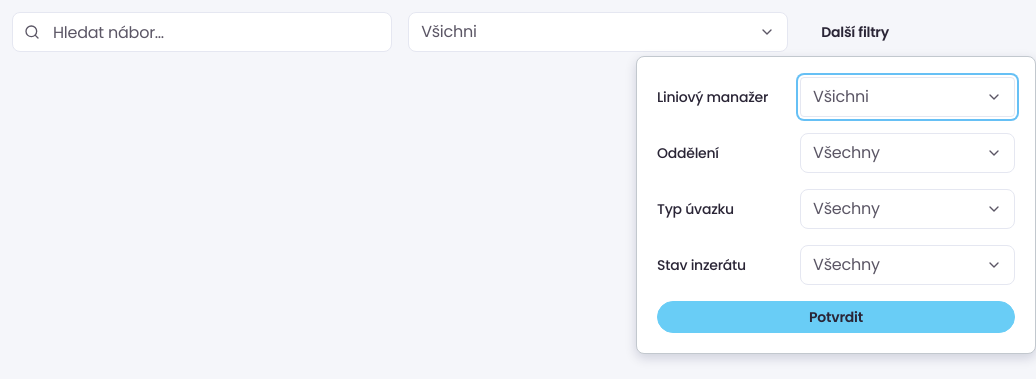
Test: JobsFilterV2 › closes the more-filters dropdown when Potvrdit is clicked
The width and height of the screenshot is (1036, 379).
Click the button "Potvrdit". click: (836, 317)
box: [657,301,1015,333]
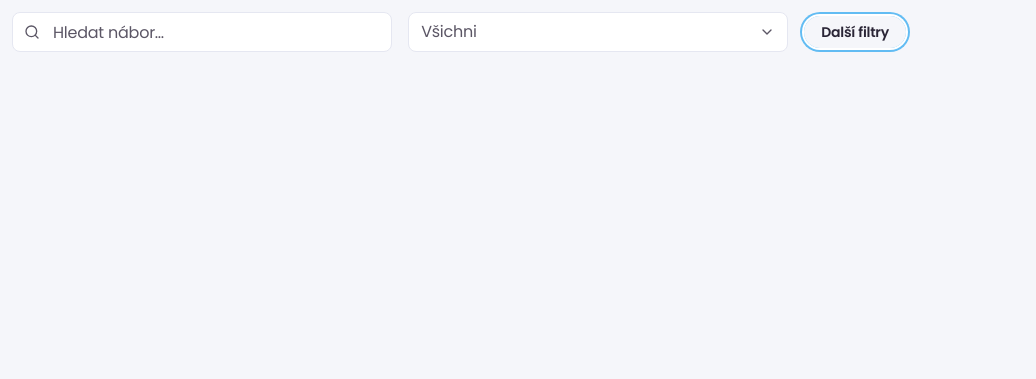
Expected: the text "Liniový manažer" is gone
Expected: the button "Potvrdit" is gone
